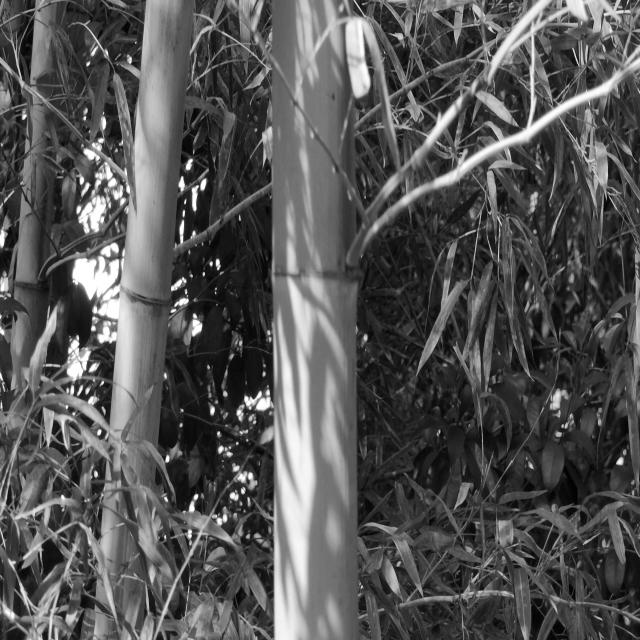Bamboo-shoots: (274, 0, 357, 637)
